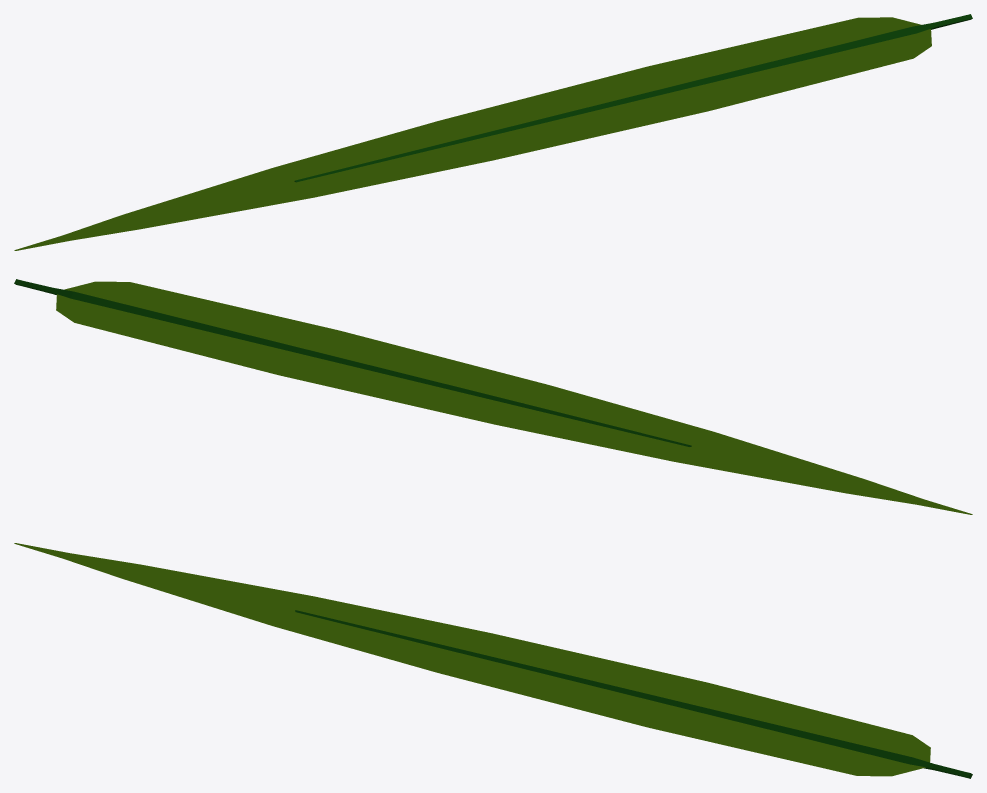
Rendered from BambooLeafCv1.fbx.
The picture shows the model from 3 angles, top to bottom: view 1: azimuth 30°, elevation 25°; view 2: azimuth 150°, elevation 25°; view 3: azimuth 330°, elevation 25°; orthographic projection.
Visible parts, largest first — view 1: Cube.028; view 2: Cube.028; view 3: Cube.028.
Boxes of the visible parts, <box> form: Cube.028: <box>14,14,972,250</box>; Cube.028: <box>14,279,972,514</box>; Cube.028: <box>14,543,972,778</box>.
Bounding box in the file's own units: 22.36 × 0.2004 × 2.47.
